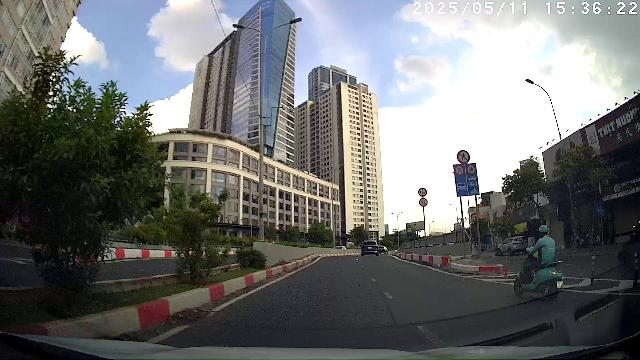127-toc-do-toi-da-50: (466, 165, 476, 175), (455, 165, 465, 175), (418, 198, 428, 206)
